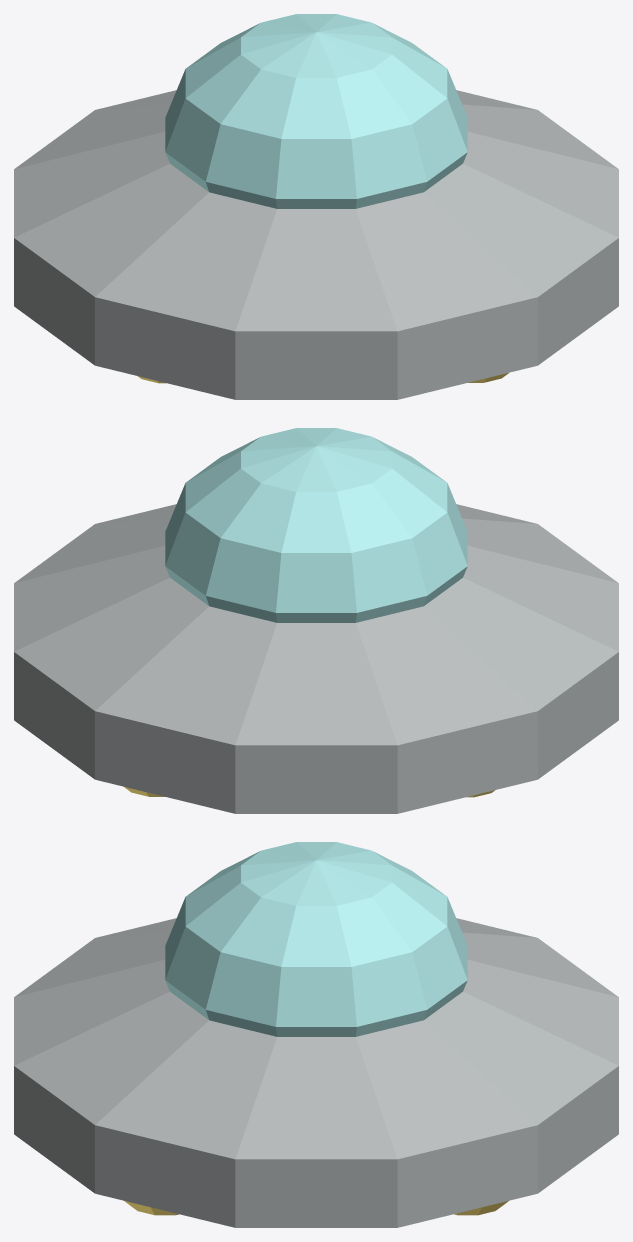
The model's file is spaceship.fbx.
The picture shows the model from 3 angles, top to bottom: view 1: azimuth 30°, elevation 25°; view 2: azimuth 150°, elevation 25°; view 3: azimuth 270°, elevation 25°; orthographic projection.
Visible parts, largest first — view 1: main_body, cabin; view 2: main_body, cabin; view 3: main_body, cabin.
Boxes of the visible parts, x1=… form: main_body: x1=14, y1=90, x2=618, y2=399; cabin: x1=165, y1=14, x2=467, y2=208; main_body: x1=14, y1=504, x2=618, y2=813; cabin: x1=165, y1=428, x2=467, y2=622; main_body: x1=14, y1=918, x2=618, y2=1227; cabin: x1=165, y1=842, x2=467, y2=1036.
Size of the model in its own units: 100 by 56.25 by 100.
1 material, 1 textured.
